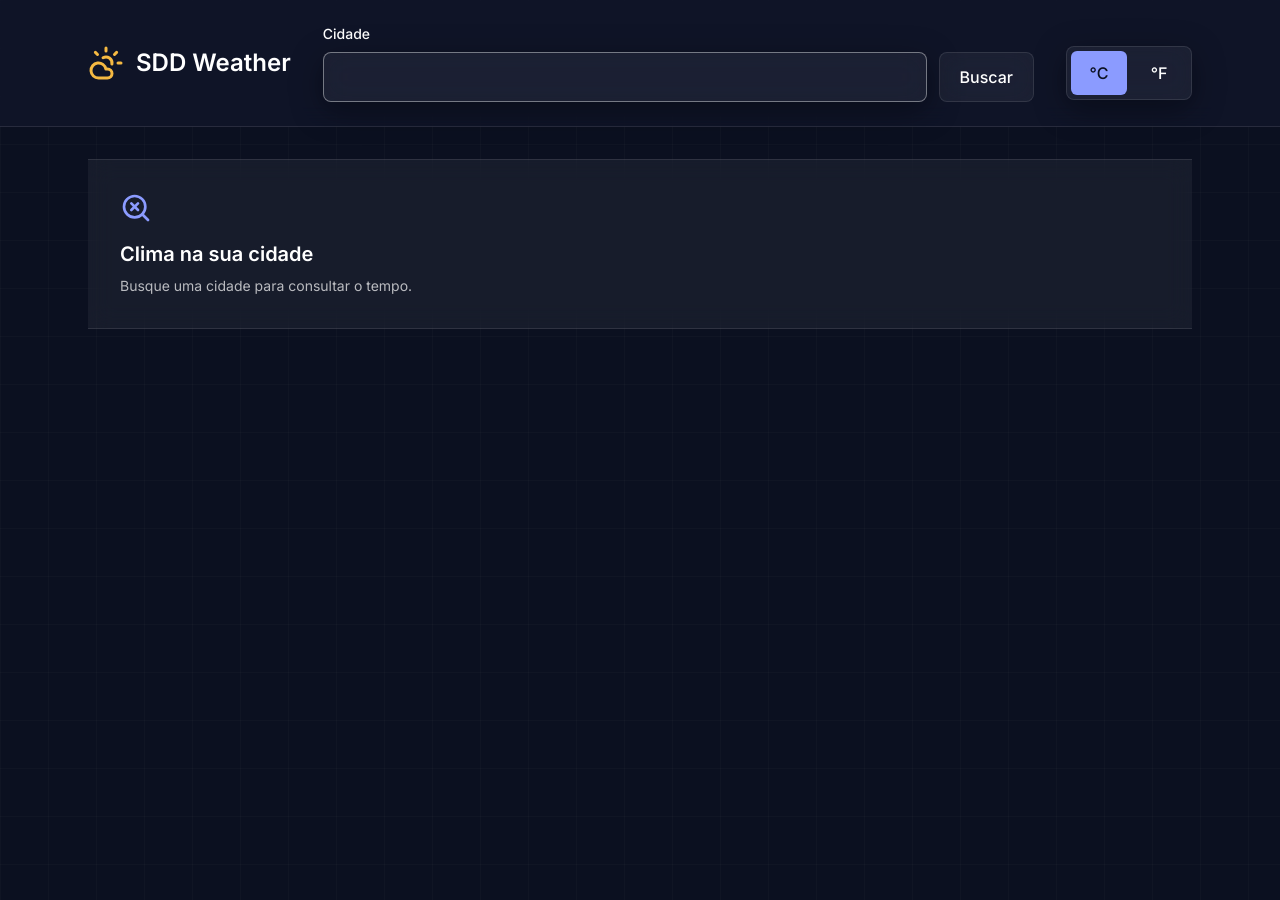
App › apresenta empty sem dados antigos e permite uma nova busca
The width and height of the screenshot is (1280, 900).
Type "Sao Paulo" into the search field.
click(625, 77); type("Sao Paulo")  # box [323,52,927,102]
Then press Enter
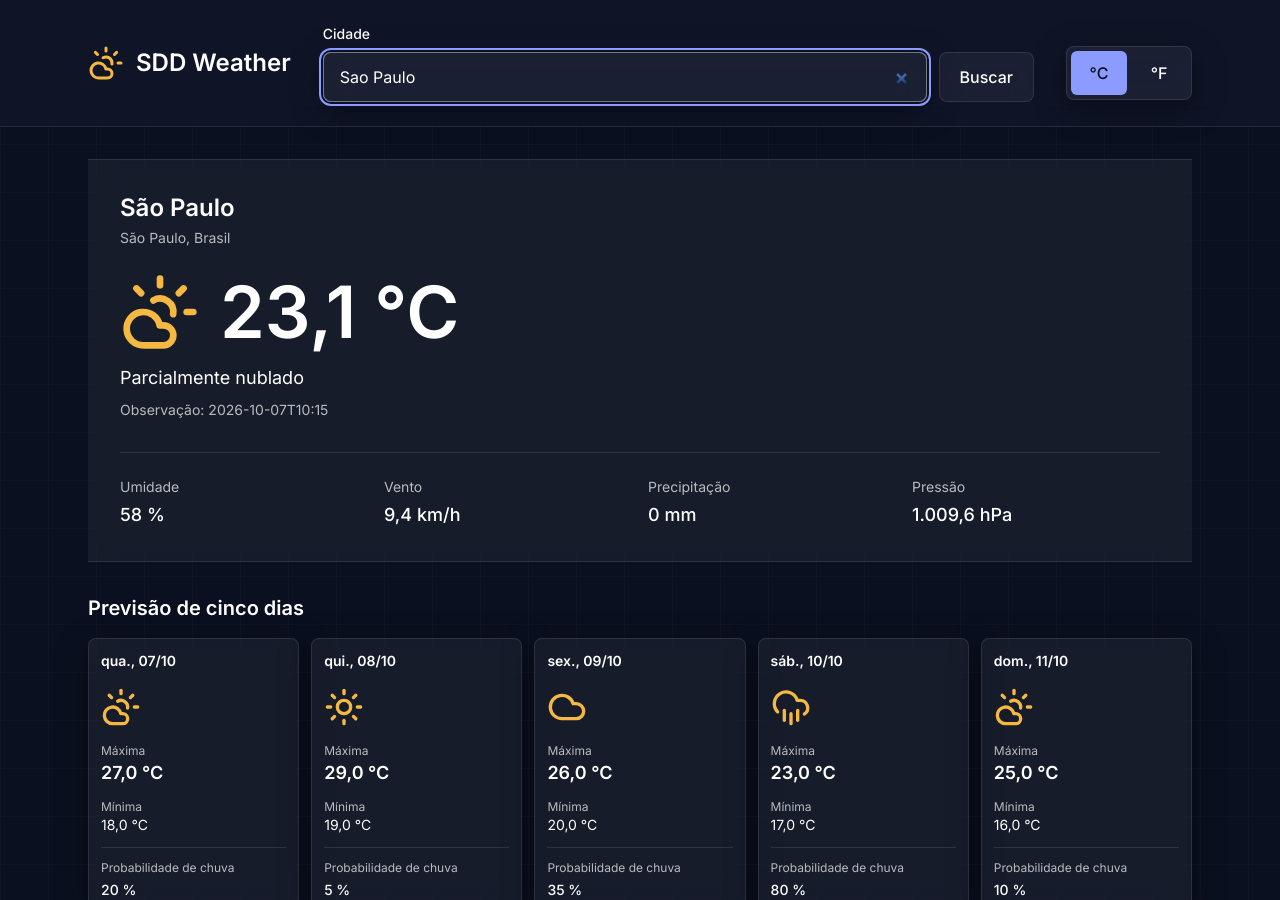
Replace the text in the search field with "Atlantida" at (625, 77), box [323,52,927,102]
Then press Enter
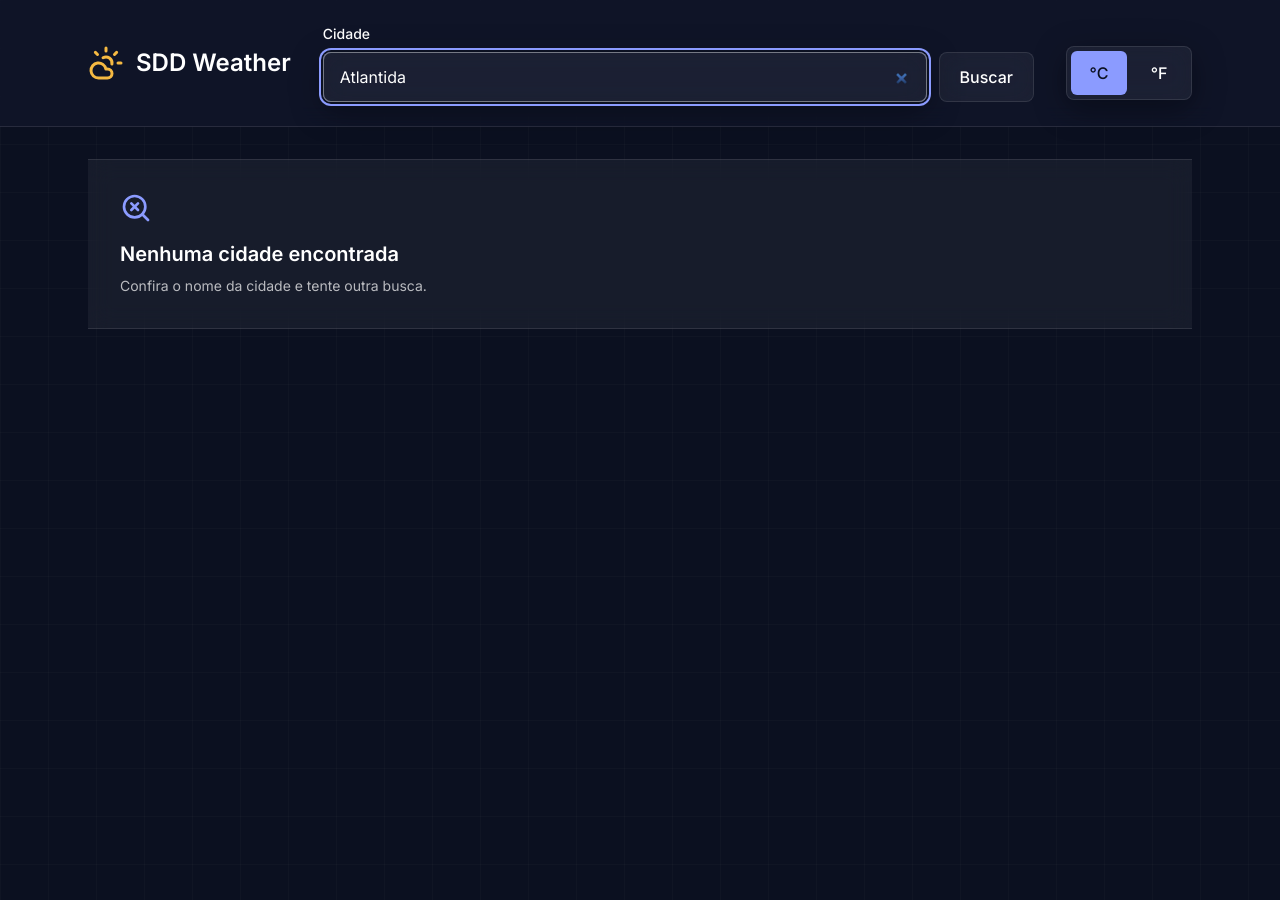
Now the heading "Nenhuma cidade encontrada" is shown, box [120,242,399,266]
